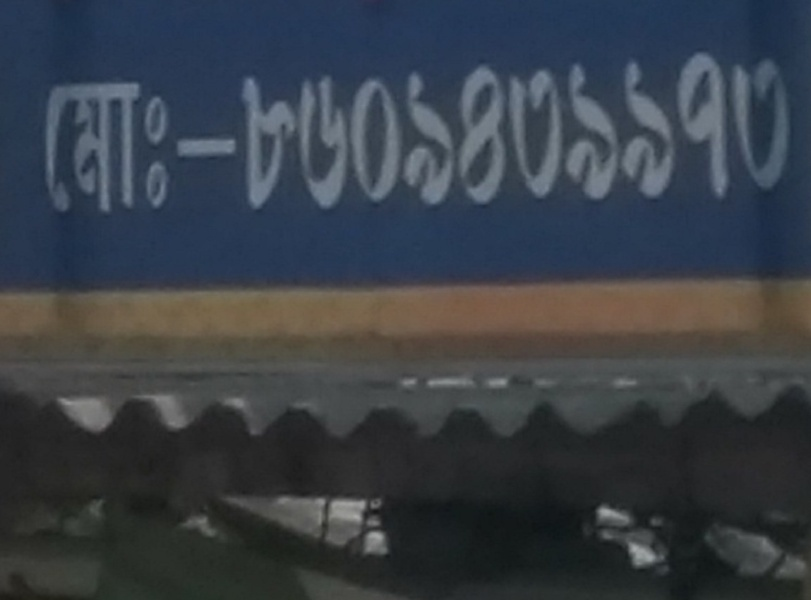text: (225, 48, 240, 218), (241, 48, 256, 218), (257, 48, 272, 218), (273, 48, 288, 218), (289, 48, 304, 218), (305, 48, 320, 218), (321, 48, 336, 218), (337, 48, 352, 218), (353, 48, 368, 218), (369, 48, 384, 218), (385, 48, 400, 218), (401, 48, 416, 218), (417, 48, 432, 218), (433, 48, 448, 218), (449, 48, 464, 218), (465, 48, 480, 218), (481, 48, 496, 218), (497, 48, 512, 218), (513, 48, 528, 218), (529, 48, 544, 218), (545, 48, 560, 218), (561, 48, 576, 218), (577, 48, 592, 218), (593, 48, 608, 218), (609, 48, 624, 218), (625, 48, 640, 218), (641, 48, 656, 218), (657, 48, 672, 218), (673, 48, 688, 218), (689, 48, 704, 218), (705, 48, 720, 218), (721, 48, 736, 218), (737, 48, 752, 218), (753, 48, 768, 218), (769, 48, 784, 218), (785, 48, 799, 218), (49, 75, 64, 218), (65, 75, 80, 218), (81, 75, 96, 218), (97, 75, 112, 218), (113, 75, 128, 218), (129, 75, 144, 218), (145, 75, 160, 218), (161, 75, 176, 218), (177, 75, 192, 218), (193, 75, 208, 218), (209, 75, 224, 218), (225, 75, 239, 218), (35, 75, 48, 218), (223, 48, 224, 218)
